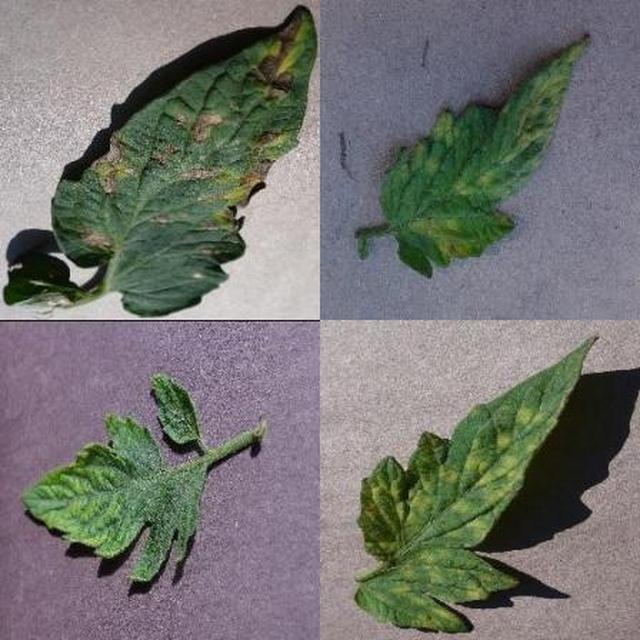Early Blight Leaf: (164, 222, 640, 640)
